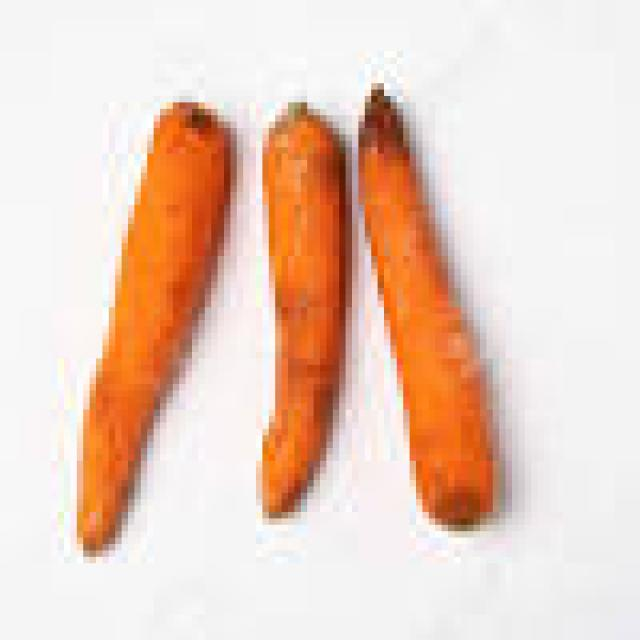Stale_Carrot: (260, 77, 381, 254), (254, 288, 340, 504), (342, 76, 436, 181), (394, 471, 522, 546), (154, 83, 241, 169)
